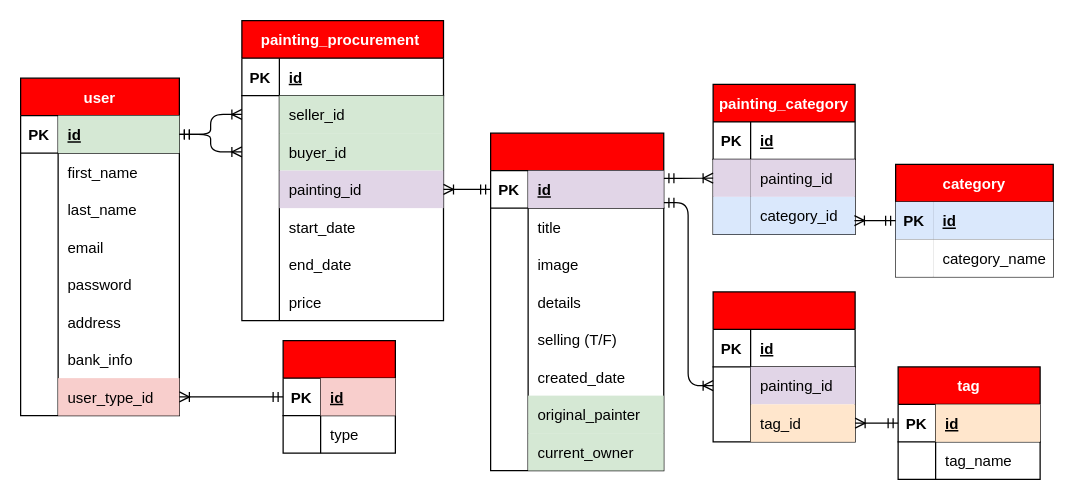
This 1074x500 diagram has some shape labels left out. The shapes that lost their labels are listed below. From the top down, each one's box as (x1, y1, x2, y2) in pixels, then its label:
(489, 132, 664, 471): painting
(712, 291, 855, 442): painting_tag
(282, 339, 395, 453): user_type
